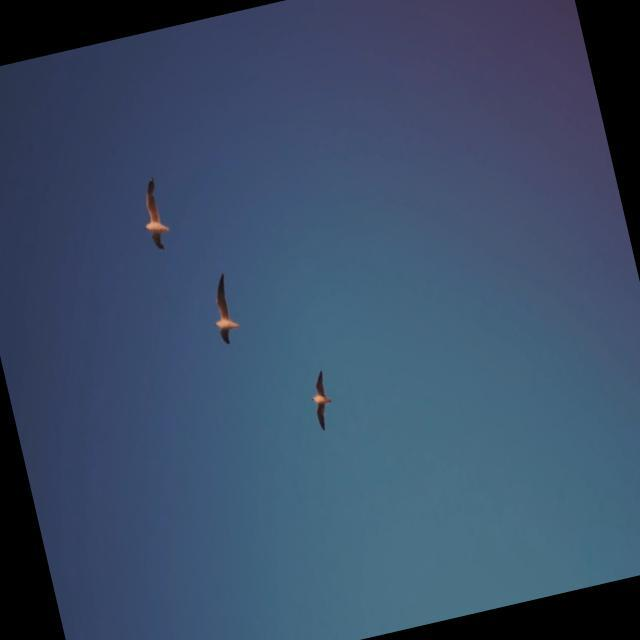bird: (131, 173, 176, 256), (202, 269, 245, 351), (302, 362, 339, 434)
